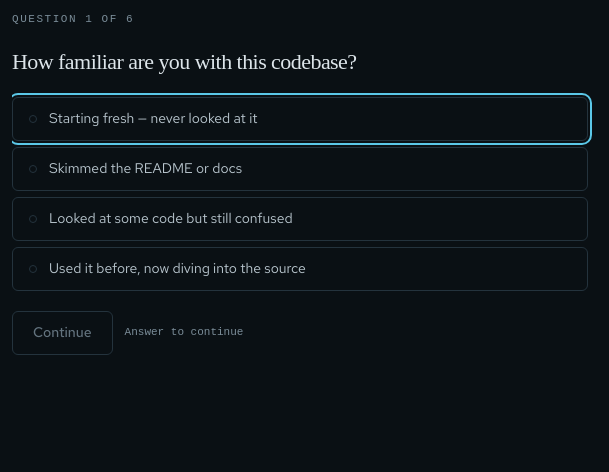
Test: the review gate › no answers are shown while the interview is running
The image size is (609, 472).
Expected: the heading "How familiar are you with this codebase?" is shown, 12,49 -> 356,74
Click the radio button labelled "Skimmed the README or docs".
click(146, 168)  # box 12,147 -> 588,191
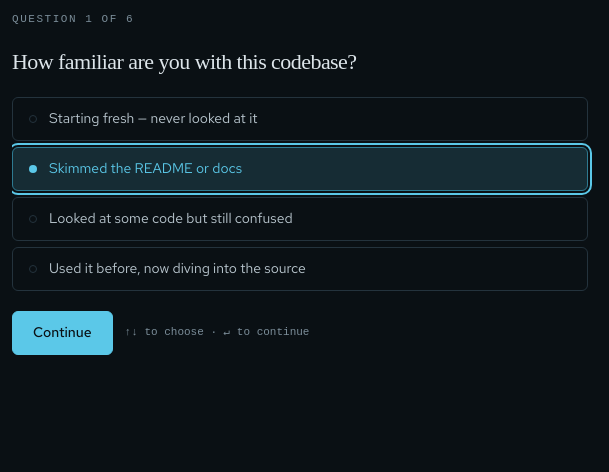
Click the button "Continue".
click(62, 333)  # box 12,311 -> 113,355
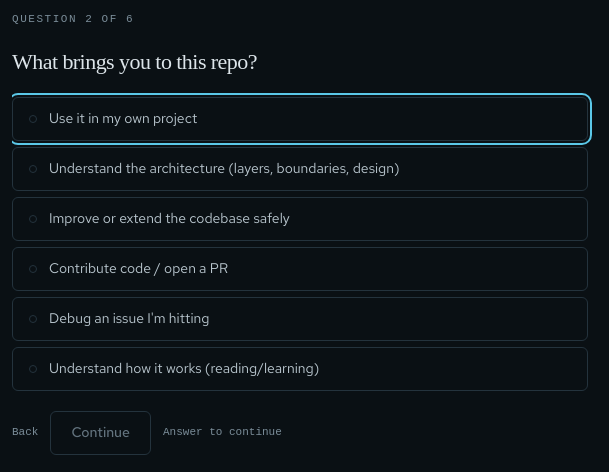
Now the heading "What brings you to this repo?" is shown, box 12,49 -> 257,74
Now the heading "How familiar are you with this codebase?" is gone
Now the radio button "Skimmed the README or docs" is gone
